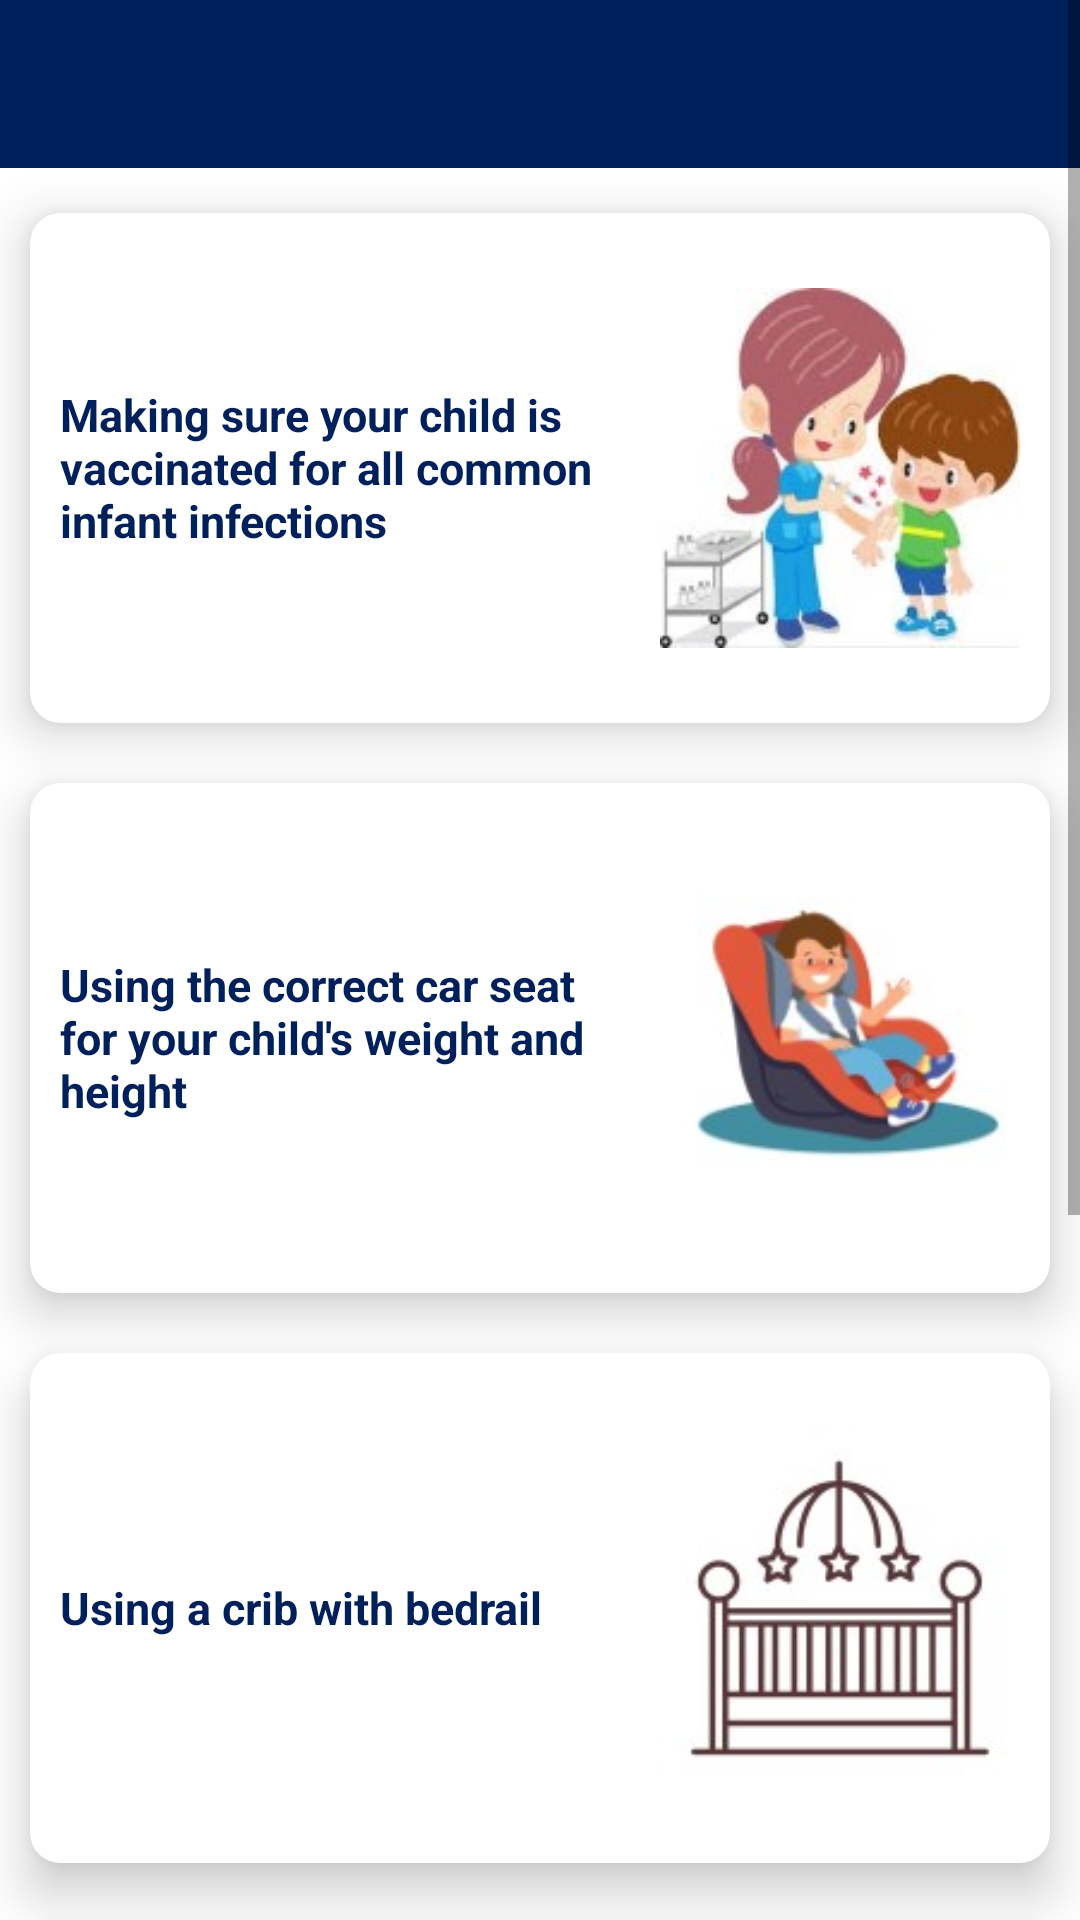

Icon bounding boxes for this 1080x1920 phone screenshot, format region(x1, y1, x2, y2):
childvaccination: region(660, 288, 1020, 648)
